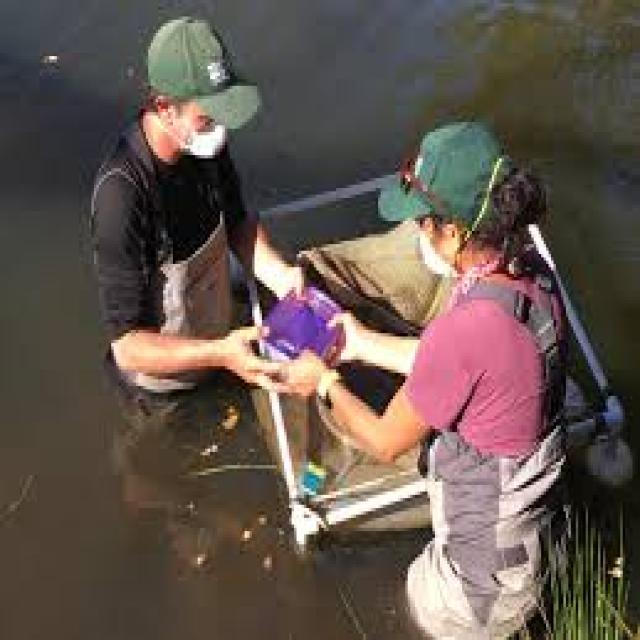3_gorra: (144, 13, 263, 132)
